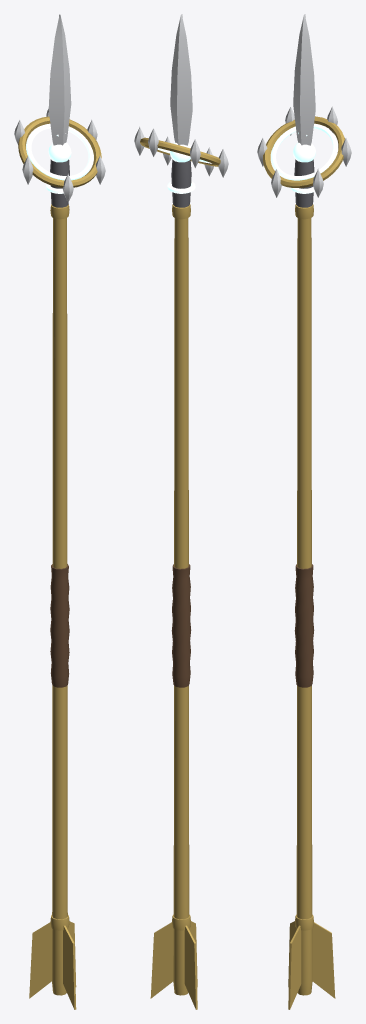
The model's file is esc_w_ranger_javelin_5.glb.
3 views of the same model, side by side, from view 1: azimuth 30°, elevation 25°; view 2: azimuth 150°, elevation 25°; view 3: azimuth 330°, elevation 25° (orthographic).
Visible parts, largest first — view 1: esc_w_ranger_javelin_5; view 2: esc_w_ranger_javelin_5; view 3: esc_w_ranger_javelin_5.
Part boxes in pixels (x1,y1,x2,y2): esc_w_ranger_javelin_5: [14, 14, 105, 1009]; esc_w_ranger_javelin_5: [134, 14, 228, 1009]; esc_w_ranger_javelin_5: [257, 14, 351, 1009].
Size of the model in its own units: 0.1472 by 1.66 by 0.1275.
